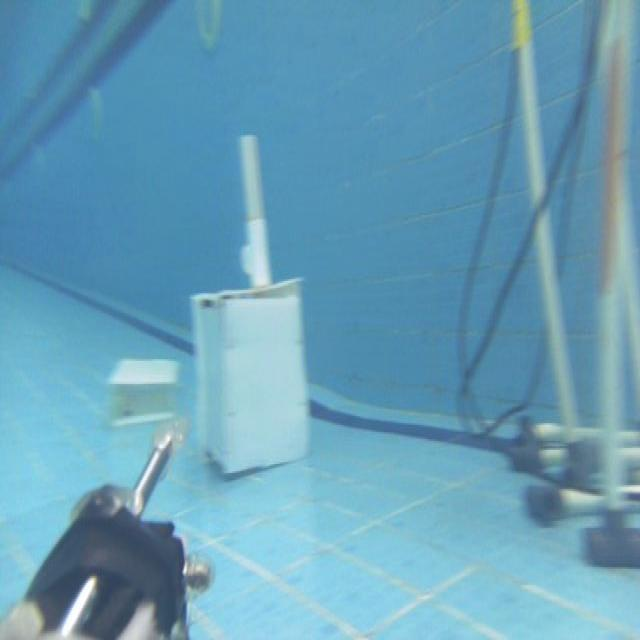Cube: (189, 274, 312, 478)
Cuboid: (106, 354, 180, 426)
